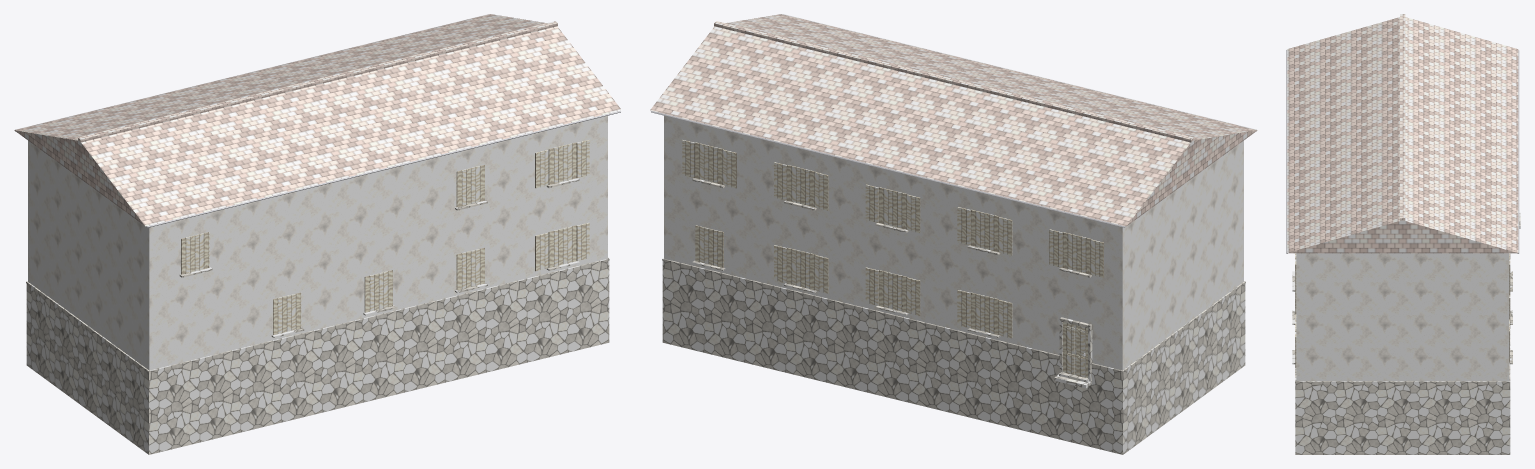
3 renders of one model, left to right at view 1: azimuth 30°, elevation 25°; view 2: azimuth 150°, elevation 25°; view 3: azimuth 270°, elevation 25°, orthographic. The views are drawn at different scales.
Parts seen in each view (by area): view 1: b1096729686; view 2: b1096729686; view 3: b1096729686.
Part boxes in pixels (x1,y1,x2,y2): b1096729686: (14, 14, 621, 454); b1096729686: (650, 14, 1257, 454); b1096729686: (1286, 14, 1520, 454).
Size of the model in its own units: 18.68 by 10.23 by 9.06.
15 materials, 15 textured.
